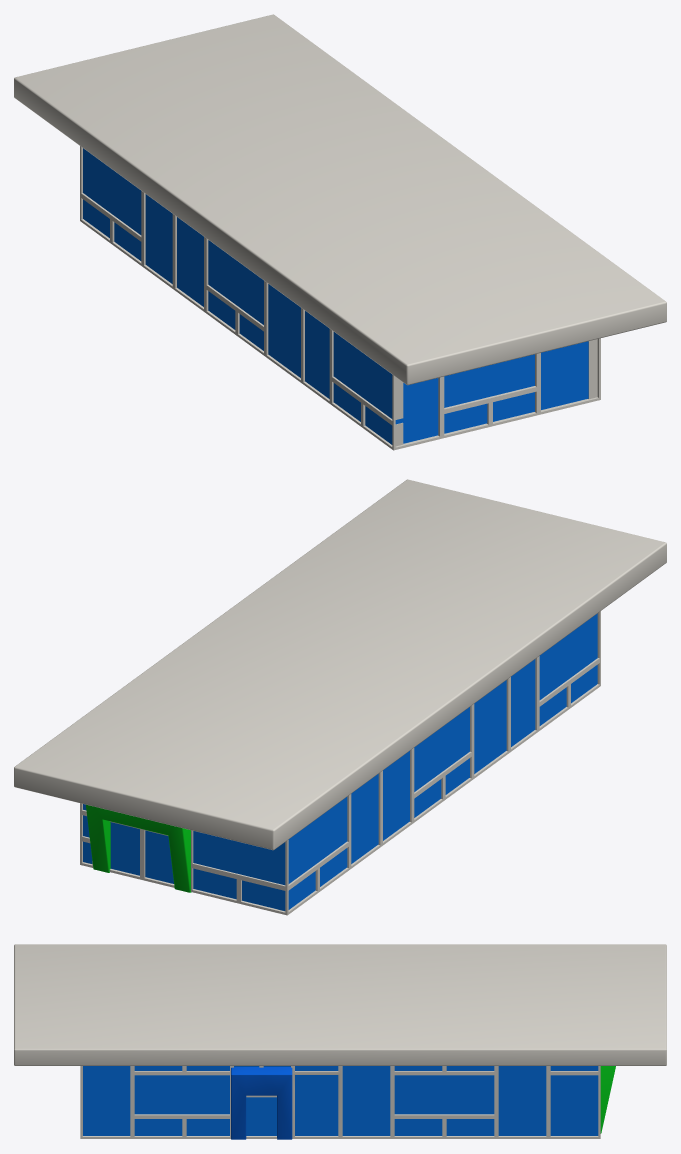
The model's file is 셔틀콕.fbx.
The picture shows the model from 3 angles, top to bottom: view 1: azimuth 30°, elevation 25°; view 2: azimuth 150°, elevation 25°; view 3: azimuth 270°, elevation 25°; orthographic projection. The views are drawn at different scales.
Parts seen in each view (by area): view 1: Cube_1, Cube_4, Cube; view 2: Cube_1, Cube_4, Cube, Cube_2; view 3: Cube_1, Cube_4, Cube, Cube_3, Cube_2.
Part boxes in pixels (bbox=[...]): Cube_1: bbox=[14, 14, 666, 385]; Cube_4: bbox=[83, 148, 588, 444]; Cube: bbox=[80, 146, 600, 450]; Cube_1: bbox=[14, 479, 666, 850]; Cube_4: bbox=[83, 613, 597, 910]; Cube: bbox=[80, 611, 600, 915]; Cube_2: bbox=[86, 804, 191, 892]; Cube_1: bbox=[14, 944, 666, 1065]; Cube_4: bbox=[83, 1066, 598, 1135]; Cube: bbox=[80, 1066, 600, 1138]; Cube_3: bbox=[231, 1067, 292, 1139]; Cube_2: bbox=[600, 1066, 615, 1133].
Size of the model in its own units: 119 by 52.9 by 310.
